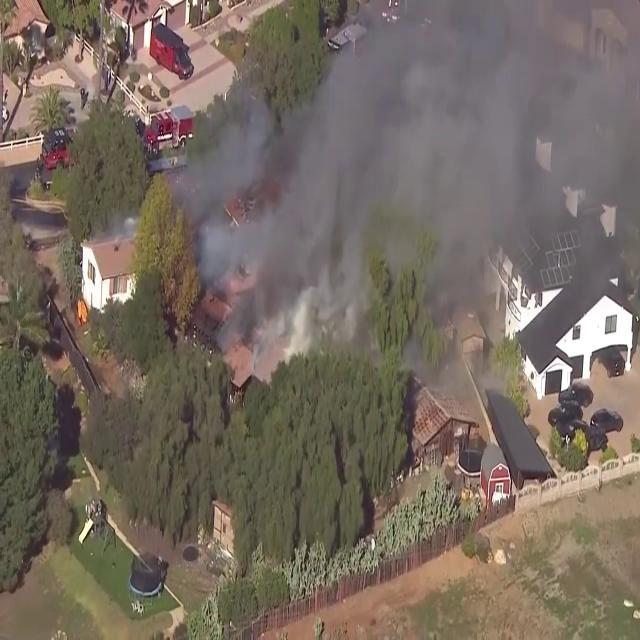Smoke: (186, 2, 524, 370)
